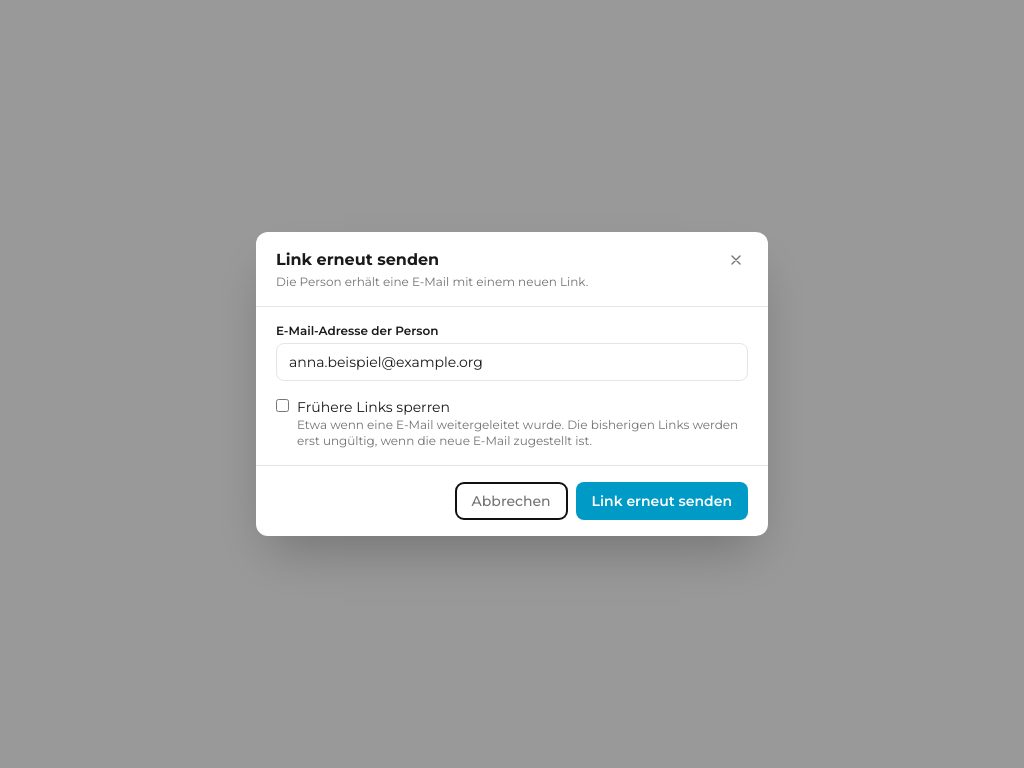
Test: Link erneut senden (EP-16, E-5) › ungueltige Adresse: gesperrt mit Grund, bevor der Server 400 sagt — wie im Dialog „Unterlagen nachfordern…“
This screenshot has width=1024, height=768.
Replace the text in the field labelled "E-Mail-Adresse der Person" with "anna.beispiel@" at (512, 362), box [276, 343, 748, 381]
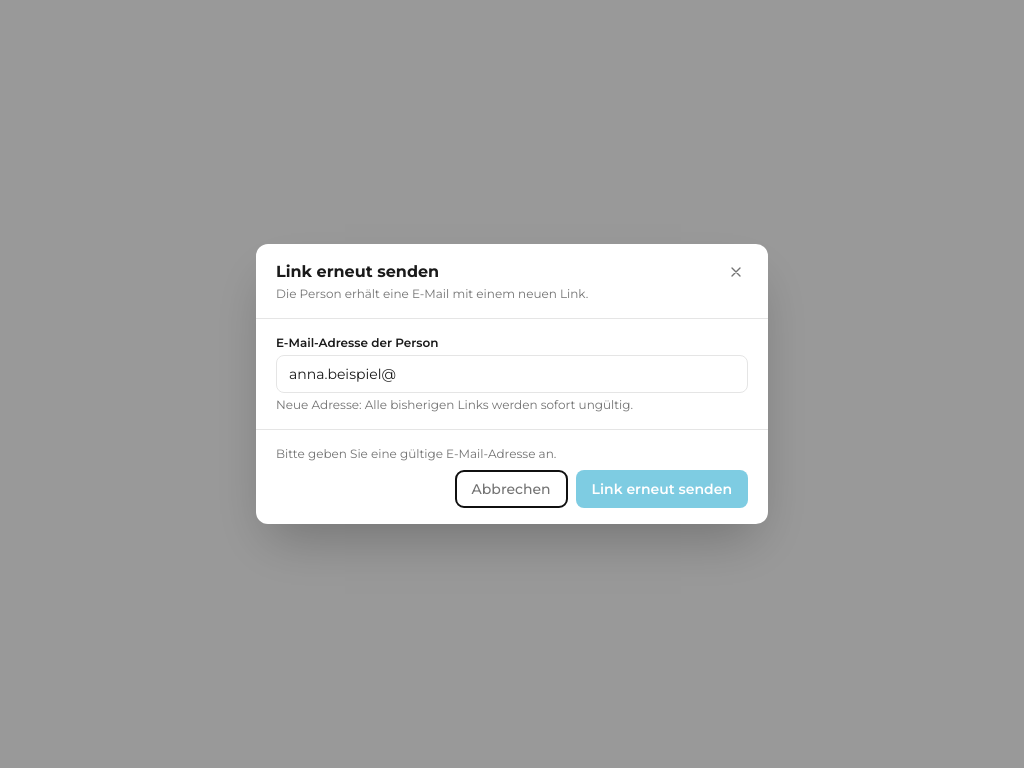
Check: the button "Link erneut senden" is disabled, box [576, 470, 748, 508]
Check: the text "Bitte geben Sie eine gültige E-Mail-Adresse an." is shown, box [276, 446, 556, 461]
Clear the field labelled "E-Mail-Adresse der Person" at (512, 374), box [276, 355, 748, 393]
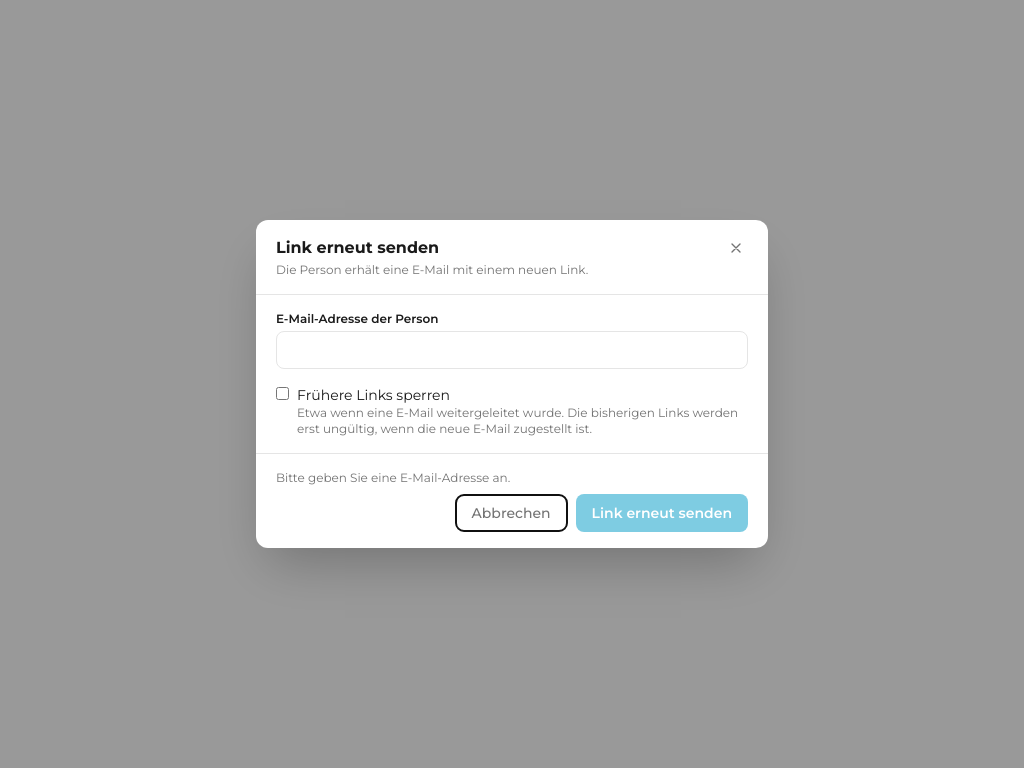
Check: the text "Bitte geben Sie eine E-Mail-Adresse an." is shown, box [276, 470, 510, 485]
